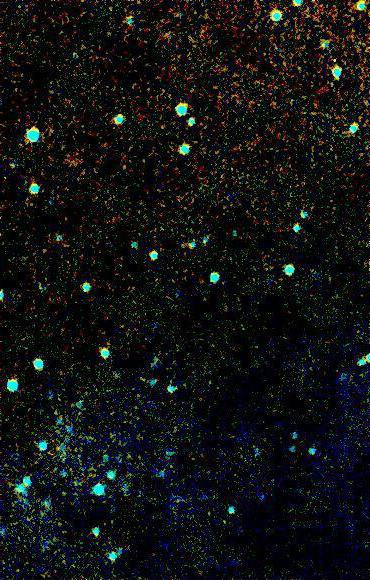star: (43, 432, 73, 462)
